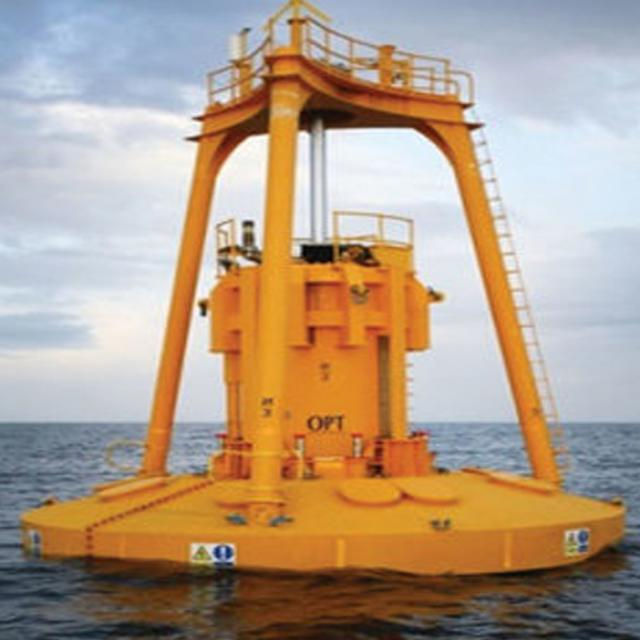buoy: (26, 0, 626, 574)
